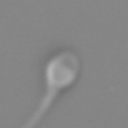normal: (13, 88, 56, 128)
